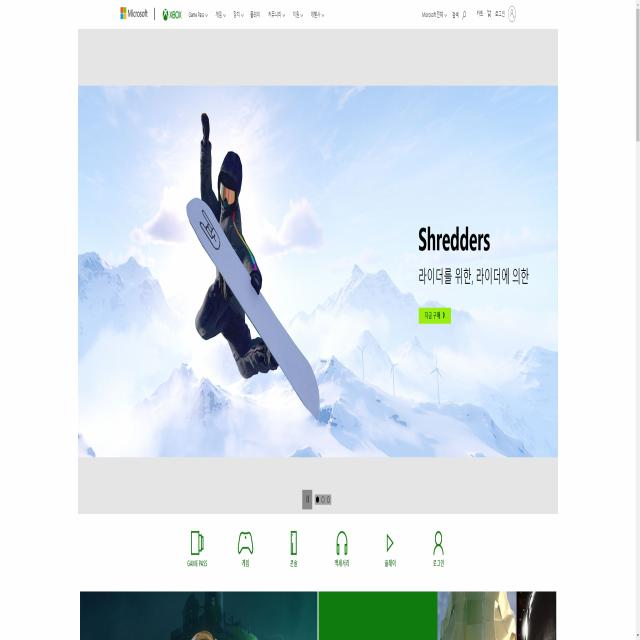menu-bar: (418, 4, 522, 22)
search: (449, 5, 468, 25)
tab-bar: (178, 514, 452, 586), (118, 4, 328, 25)
